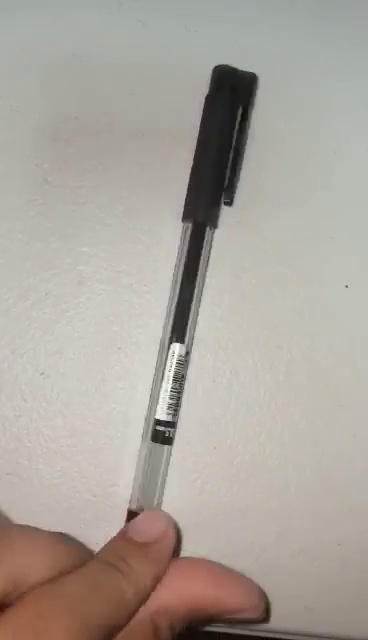ballpen: (123, 63, 257, 530)
hand: (1, 508, 271, 640)
